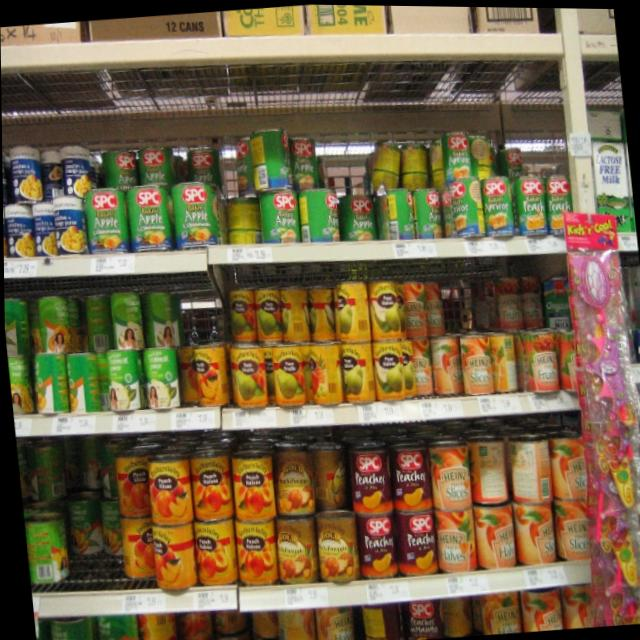q91: (95, 356, 144, 426), (29, 286, 72, 359), (103, 289, 150, 355), (140, 345, 180, 422), (30, 353, 73, 418), (146, 279, 180, 352), (3, 285, 32, 360), (6, 354, 36, 421)
